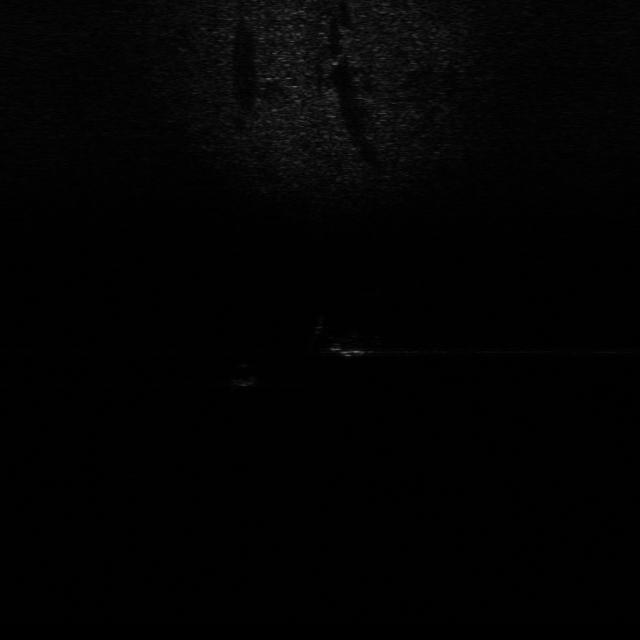ball: (230, 360, 262, 388)
human body: (309, 316, 382, 359)
